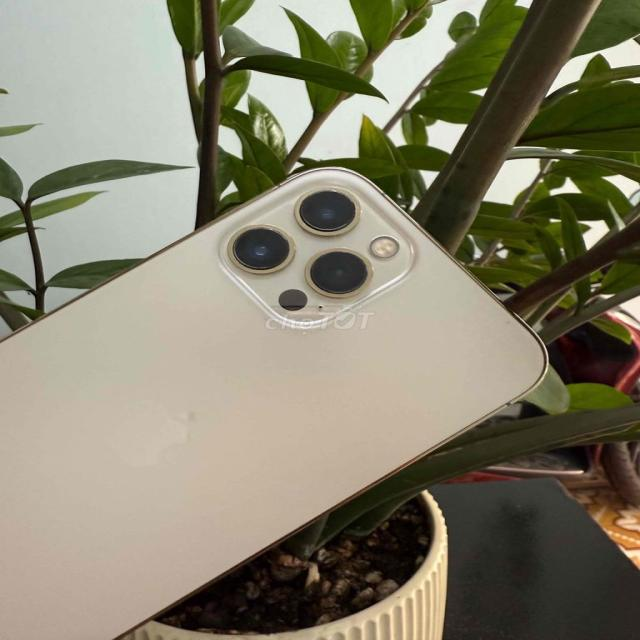gen_12_13: (22, 164, 553, 640)
